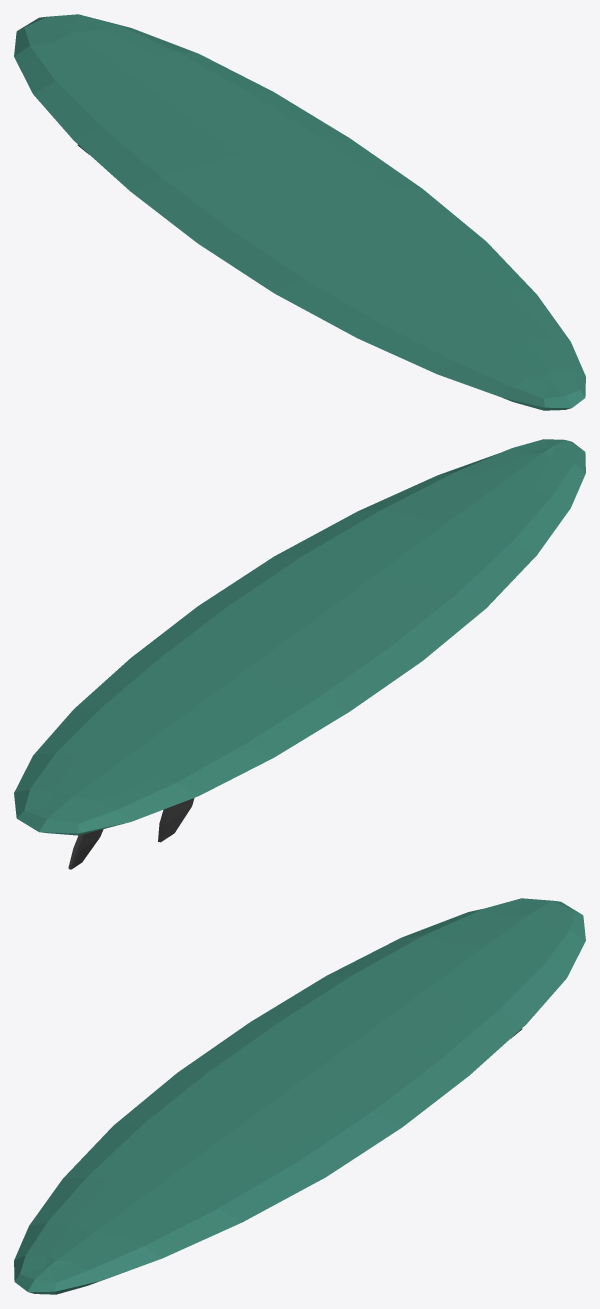
File: sorftahtasi.fbx
3 views of the same model, one above another, from view 1: azimuth 30°, elevation 25°; view 2: azimuth 150°, elevation 25°; view 3: azimuth 330°, elevation 25° (orthographic).
Parts seen in each view (by area): view 1: Plane; view 2: Plane; view 3: Plane.
Part boxes in pixels (<box>): Plane: <box>14,14,585,410</box>; Plane: <box>14,439,585,869</box>; Plane: <box>14,898,585,1294</box>.
Bounding box in the file's own units: 47.21 × 14.27 × 194.
